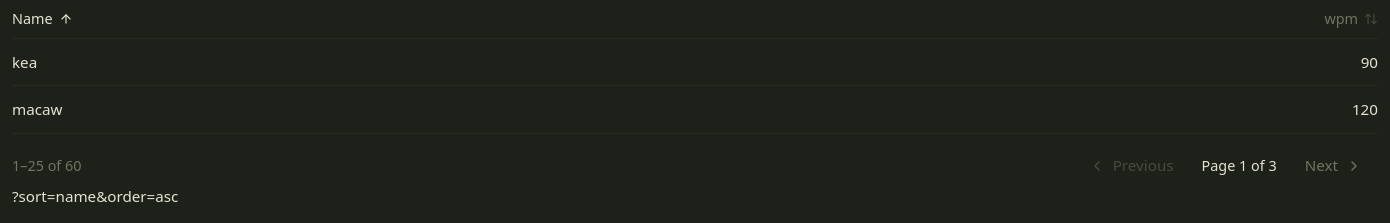
Scenario: DataTable sorting and pagination › starts a new column in its default order and flips it on the next click
The image size is (1390, 223).
Click the button "wpm" at (1351, 19), box [1324,8,1378,30]
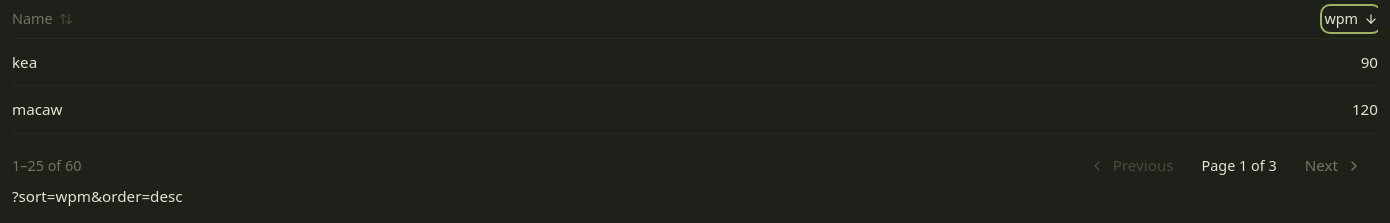
Expected: the text with test id "url" shows "sort=wpm", [12,186,183,206]
Expected: the text with test id "url" shows "order=desc", [12,186,183,206]
asc is this harness's default, so the URL leaves the parameter out.
Click the button "wpm" at (1351, 19), box [1324,8,1378,30]
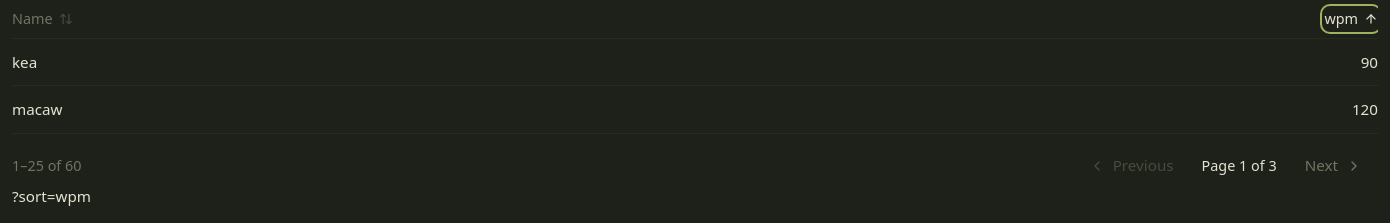
Expected: the text with test id "url" no longer shows "order=desc"
